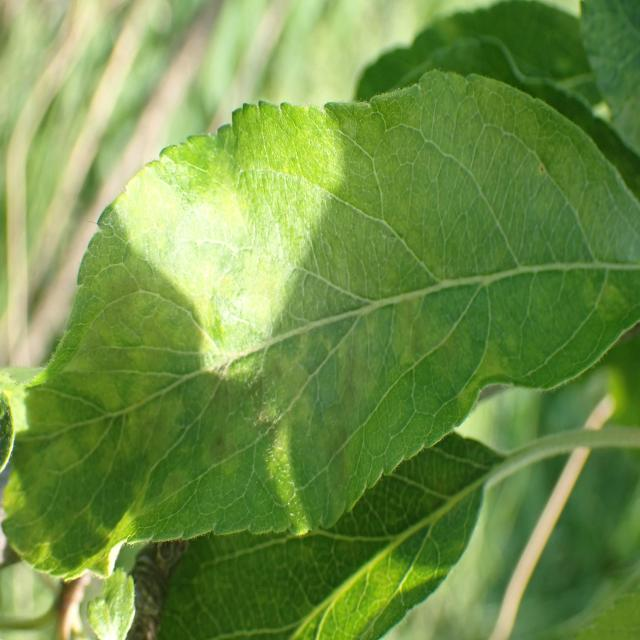scab: (36, 155, 640, 439)
